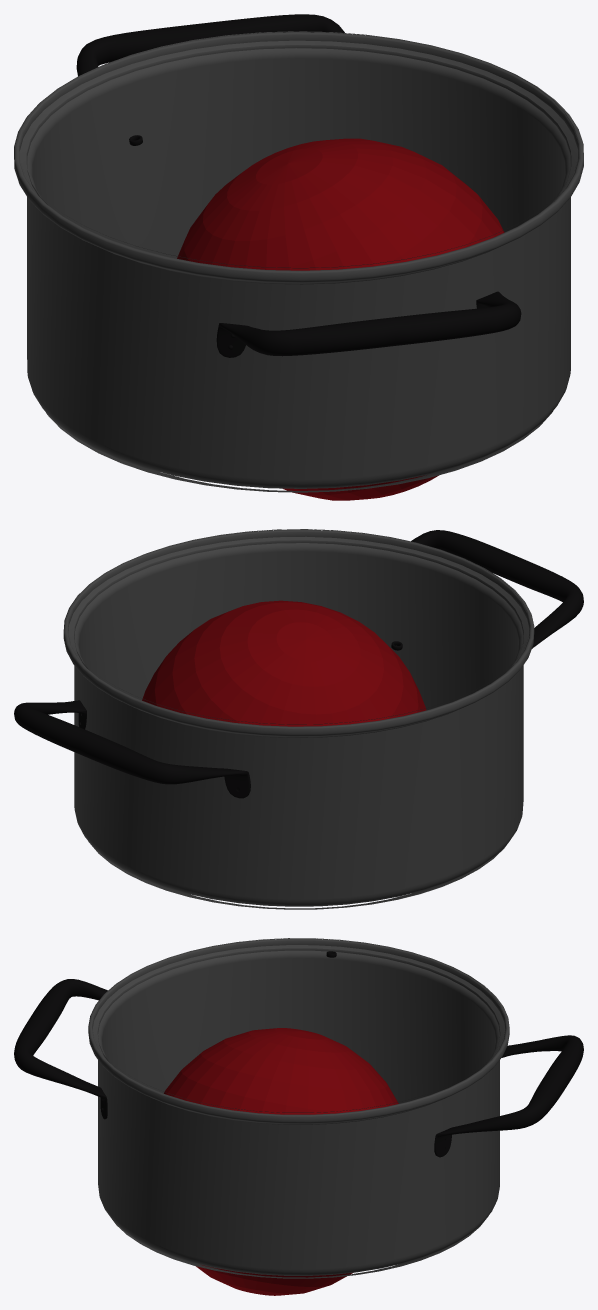
Rendered from potwithsoup.fbx.
The picture shows the model from 3 angles, top to bottom: view 1: azimuth 30°, elevation 25°; view 2: azimuth 150°, elevation 25°; view 3: azimuth 270°, elevation 25°; orthographic projection. The views are drawn at different scales.
Visible parts, largest first — view 1: Pot, PotInside, Sphere, PotHandleRight, PotHandleLeft; view 2: Pot, PotInside, Sphere, PotHandleLeft, PotHandleRight; view 3: Pot, PotInside, Sphere, PotHandleLeft, PotHandleRight.
Boxes of the visible parts, x1=… form: Pot: x1=19, y1=31, x2=578, y2=488; PotInside: x1=14, y1=32, x2=583, y2=492; Sphere: x1=177, y1=138, x2=504, y2=500; PotHandleRight: x1=216, y1=291, x2=521, y2=357; PotHandleLeft: x1=76, y1=14, x2=344, y2=76; Pot: x1=68, y1=529, x2=529, y2=906; PotInside: x1=63, y1=529, x2=534, y2=909; Sphere: x1=142, y1=600, x2=426, y2=726; PotHandleLeft: x1=14, y1=700, x2=250, y2=798; PotHandleRight: x1=411, y1=530, x2=583, y2=648; Pot: x1=92, y1=938, x2=505, y2=1275; PotInside: x1=88, y1=938, x2=509, y2=1278; Sphere: x1=164, y1=1028, x2=398, y2=1295; PotHandleLeft: x1=434, y1=1035, x2=583, y2=1157; PotHandleRight: x1=14, y1=979, x2=107, y2=1119.
Size of the model in its own units: 31.41 by 22.07 by 42.53.
